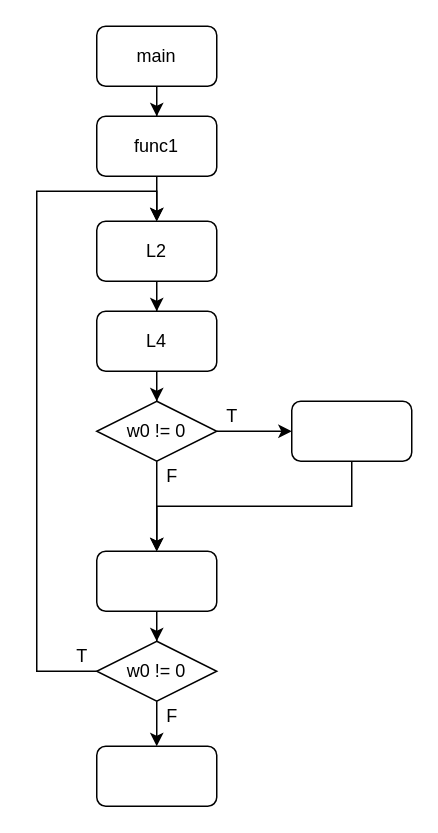
Some shapes in this 438 by 833 pixel diagram are drawn without their labels. The centre of each missing label's shape, as x and y in pixels:
"func2" belongs at pixel 351 430.
"L3" belongs at pixel 156 580.
"printf" belongs at pixel 156 775.
